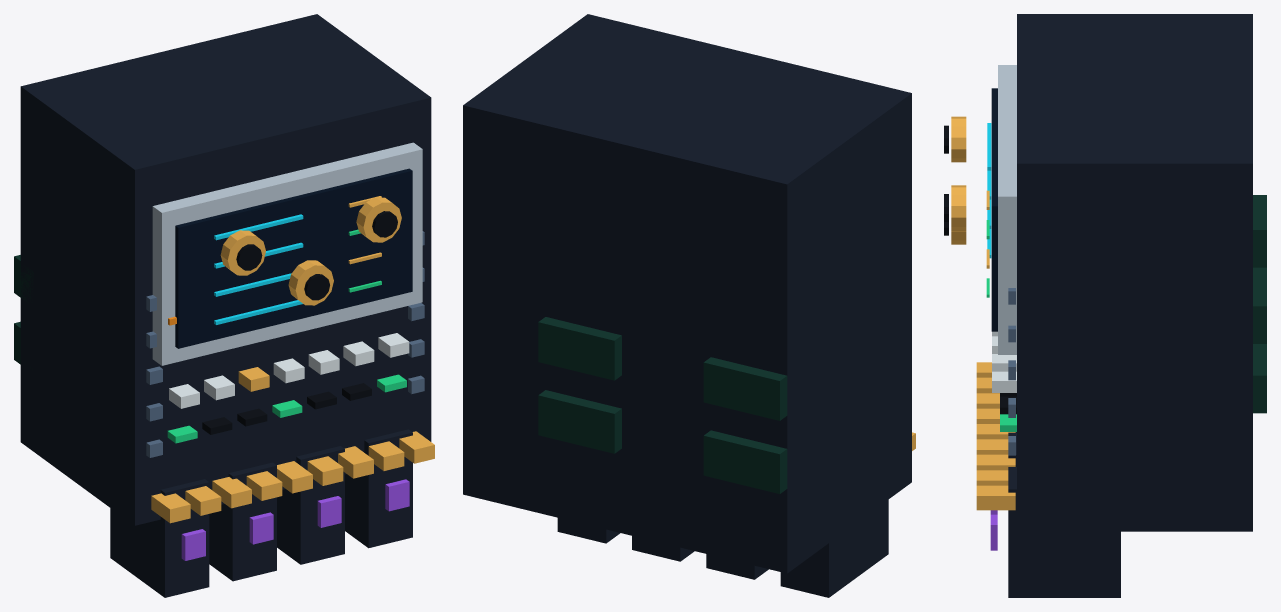
Rendered from 61_L91_CelestialTimeBarycenterComputer.fbx.
The picture shows the model from 3 angles, left to right: view 1: azimuth 30°, elevation 25°; view 2: azimuth 150°, elevation 25°; view 3: azimuth 270°, elevation 25°; orthographic projection. The views are drawn at different scales.
Parts seen in each view (by area): view 1: L91_CelestialTimeBarycenterComputer, L91_CelestialTimeBarycenterComputer_Part_0012, L91_CelestialTimeBarycenterComputer_Part_0013, L91_CelestialTimeBarycenterComputer_Part_0017, L91_CelestialTimeBarycenterComputer_Part_0015; view 2: L91_CelestialTimeBarycenterComputer; view 3: L91_CelestialTimeBarycenterComputer, L91_CelestialTimeBarycenterComputer_Part_0013, L91_CelestialTimeBarycenterComputer_Part_0017.
Boxes of the visible parts, <box> form: L91_CelestialTimeBarycenterComputer: <box>14,14,434,597</box>; L91_CelestialTimeBarycenterComputer_Part_0012: <box>181,479,409,560</box>; L91_CelestialTimeBarycenterComputer_Part_0013: <box>220,230,265,275</box>; L91_CelestialTimeBarycenterComputer_Part_0017: <box>356,197,401,242</box>; L91_CelestialTimeBarycenterComputer_Part_0015: <box>288,260,333,305</box>; L91_CelestialTimeBarycenterComputer: <box>463,14,915,597</box>; L91_CelestialTimeBarycenterComputer: <box>976,14,1266,597</box>; L91_CelestialTimeBarycenterComputer_Part_0013: <box>951,116,966,162</box>; L91_CelestialTimeBarycenterComputer_Part_0017: <box>951,185,966,230</box>.
Bounding box in the file's own units: 100 × 140 × 91.63.
